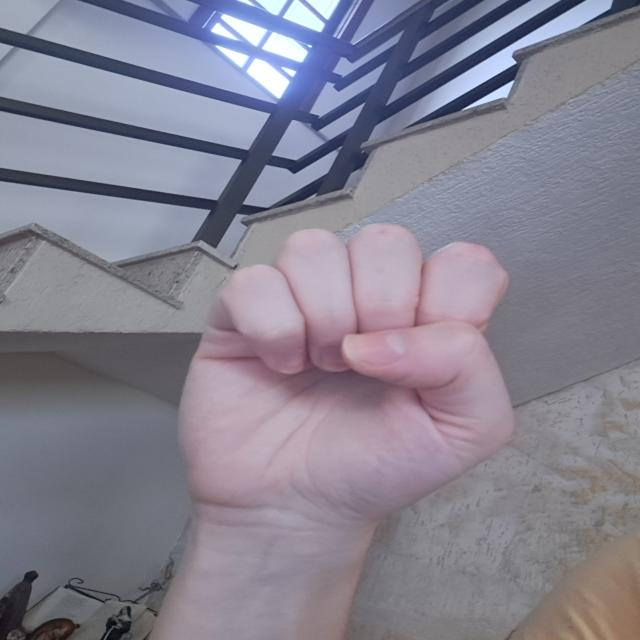S: (165, 226, 533, 522)
